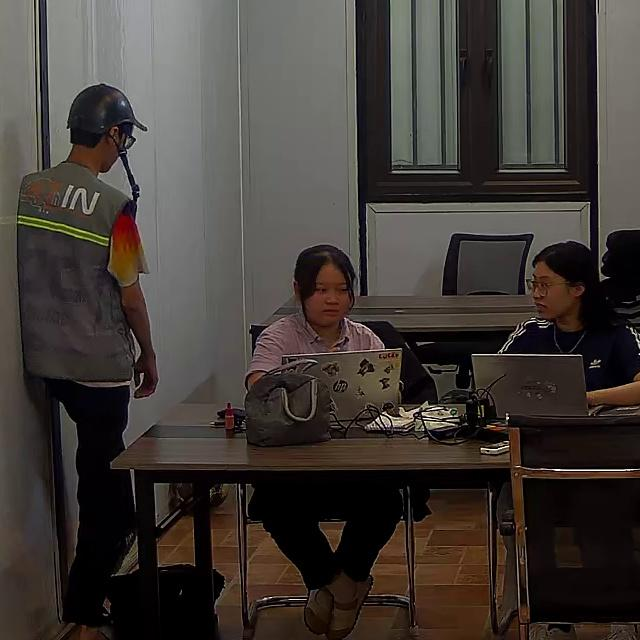helmet: (65, 82, 149, 136)
no_helmet: (530, 240, 619, 308), (292, 244, 357, 315)
none: (495, 315, 640, 395), (244, 310, 385, 392)
vest: (17, 163, 145, 383)
